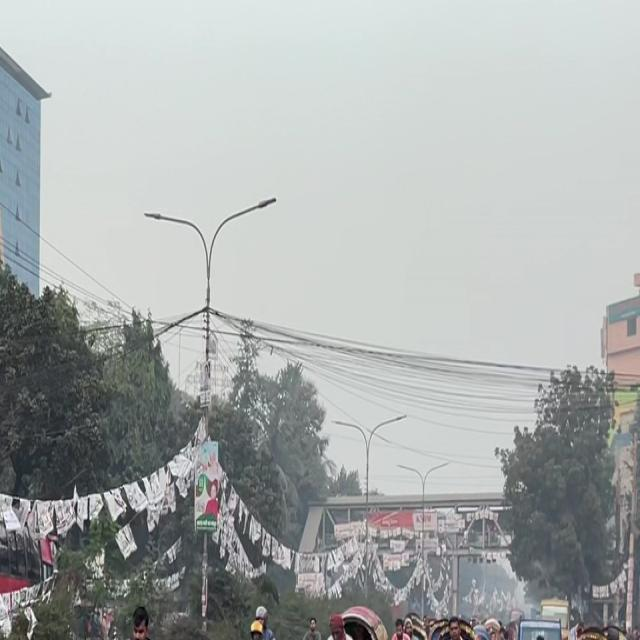bicycle: (99, 592, 171, 640)
motorbike: (232, 600, 280, 640)
